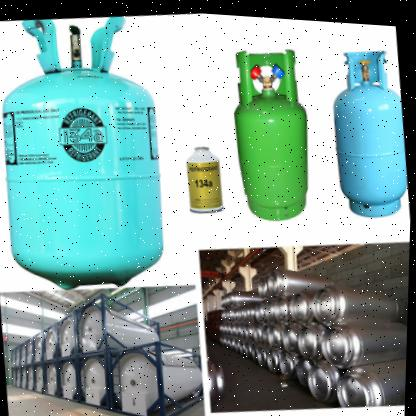gas-tank: (0, 3, 191, 303), (215, 30, 331, 229), (315, 24, 415, 227), (322, 343, 407, 414), (308, 267, 410, 326), (313, 304, 408, 364), (263, 253, 341, 299), (300, 352, 341, 400), (296, 316, 332, 363), (285, 286, 326, 319)
